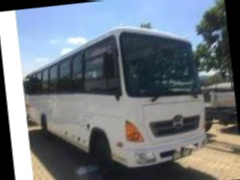bus: (20, 17, 215, 180)
